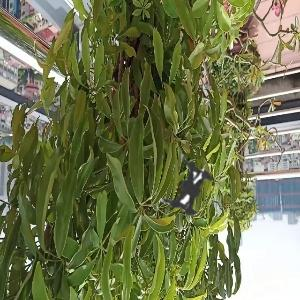drone: (112, 102, 280, 270)
